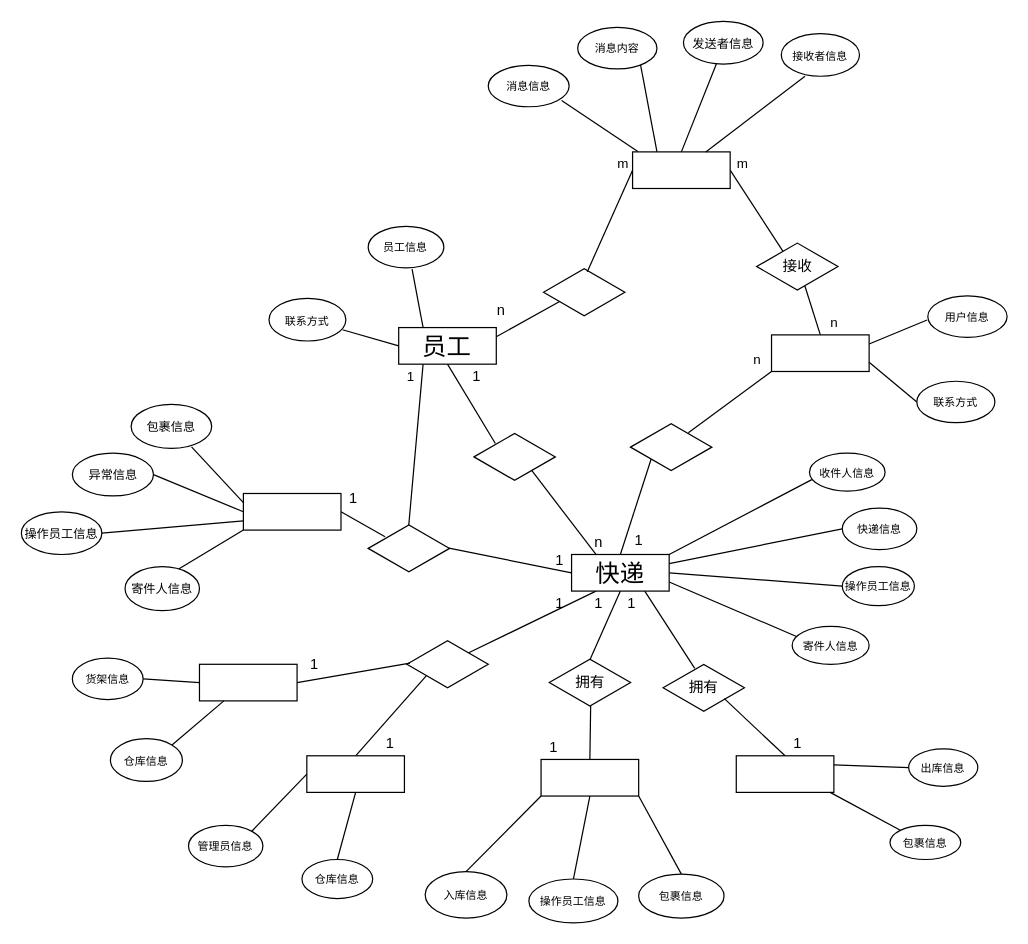
Image size: 1028x944. Some labels were removed from this diagram. The box of each missing label's shape, as (x1, y1, x2, y2) in pixels:
仓库: (306, 755, 404, 792)
位于: (406, 639, 488, 689)
入库: (473, 431, 555, 481)
入库记录: (540, 758, 639, 796)
出库: (629, 422, 712, 472)
出库记录: (735, 755, 834, 792)
发送: (542, 267, 625, 317)
异常件: (242, 492, 341, 530)
消息/提醒/公告: (631, 151, 730, 188)
用户: (770, 334, 869, 371)
货架及层数: (198, 663, 297, 701)
转换: (367, 523, 450, 573)
